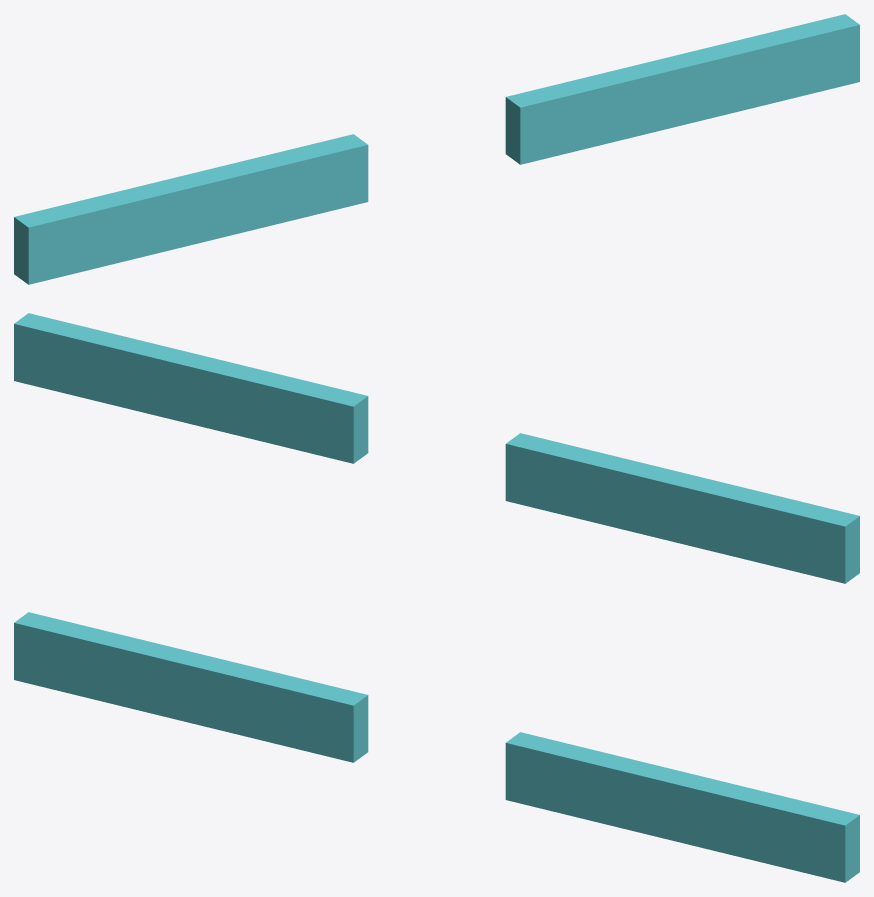
File: wallStump02.fbx
3 renders of one model, top to bottom at view 1: azimuth 30°, elevation 25°; view 2: azimuth 150°, elevation 25°; view 3: azimuth 330°, elevation 25°, orthographic.
Visible parts, largest first — view 1: wallStump02_geo; view 2: wallStump02_geo; view 3: wallStump02_geo.
Part boxes in pixels (box(x1,y1,x2,y2)): wallStump02_geo: box(14, 14, 859, 284); wallStump02_geo: box(14, 313, 859, 583); wallStump02_geo: box(14, 612, 859, 882).
Size of the model in its own units: 3279 by 216 by 100.
1 material, 1 textured.
